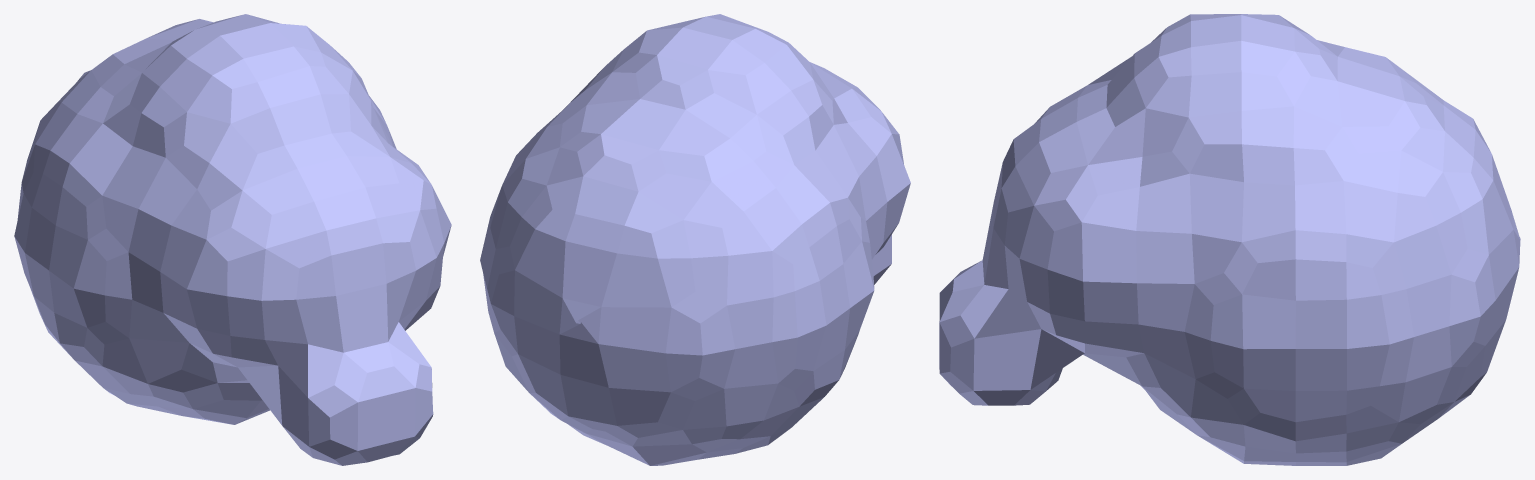
Rendered from st1_cloud1.fbx.
The picture shows the model from 3 angles, left to right: view 1: azimuth 30°, elevation 25°; view 2: azimuth 150°, elevation 25°; view 3: azimuth 270°, elevation 25°; orthographic projection. The views are drawn at different scales.
Visible parts, largest first — view 1: Icosphere_003; view 2: Icosphere_003; view 3: Icosphere_003.
Part boxes in pixels (x1,y1,x2,y2): Icosphere_003: (14, 14, 451, 465); Icosphere_003: (480, 14, 910, 465); Icosphere_003: (939, 14, 1520, 465).
Size of the model in its own units: 813 by 898 by 1127.
